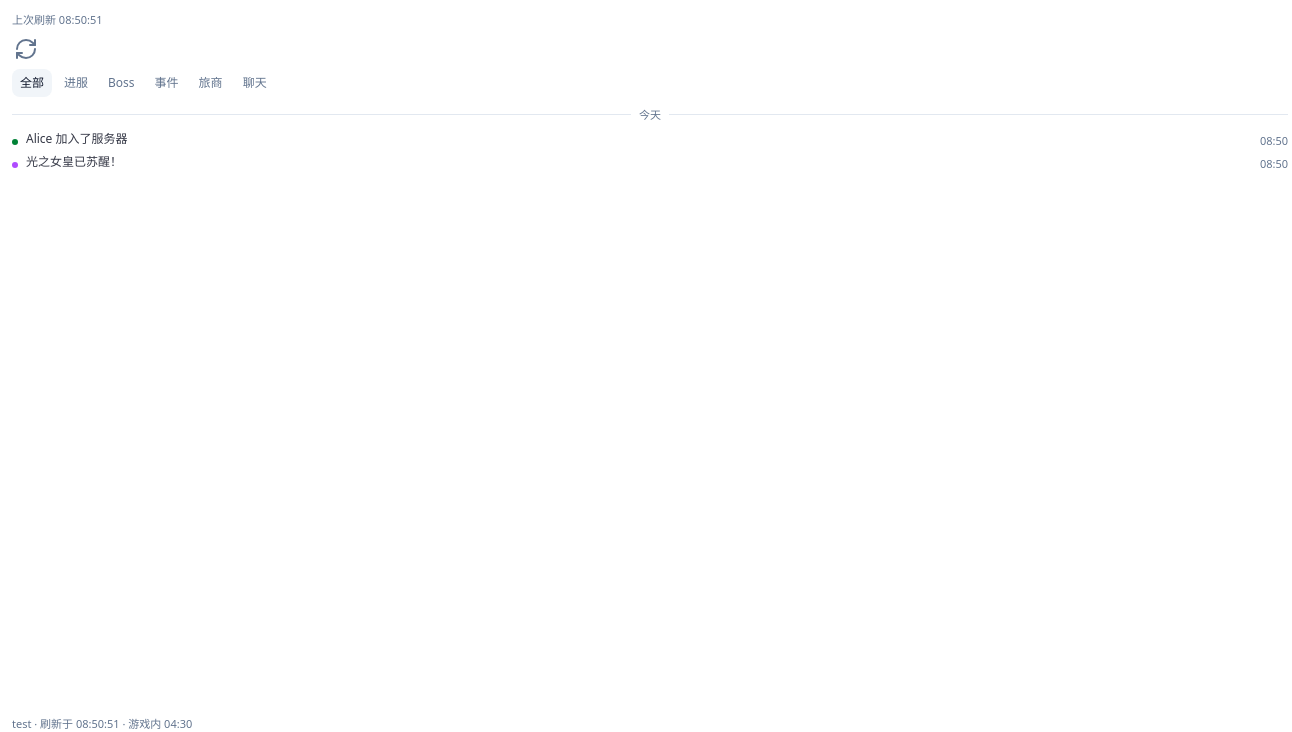
Test case: ServerFeedTab 类型筛选 › 「事件」筛选只显示世界公告
Expected: the text "Alice 加入了服务器" is shown, [26,130,128,147]
What coordinates should you click on to do the following:
click the button "事件"
I would click on:
 (167, 82)
Its box is [147,68,187,96].
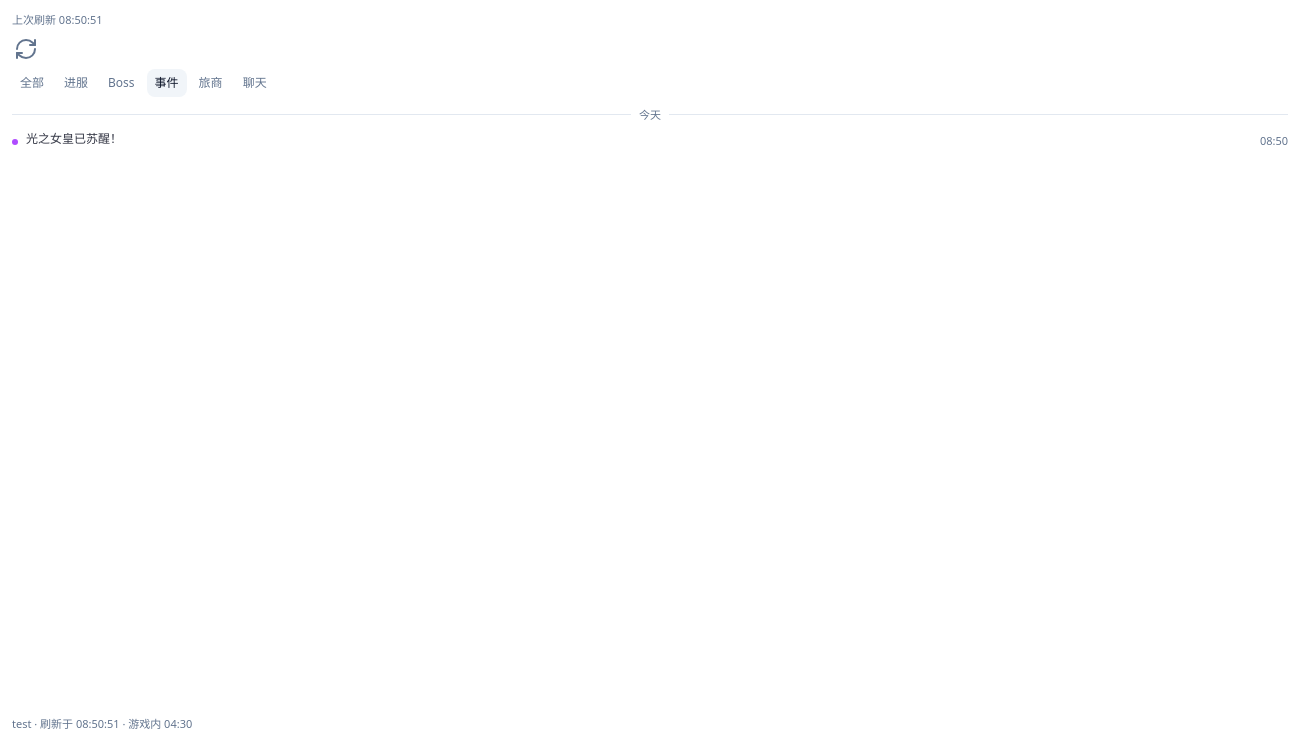
Expected: the text "光之女皇已苏醒！" is shown, [26,130,122,147]
Result: the text "Alice 加入了服务器" is gone
